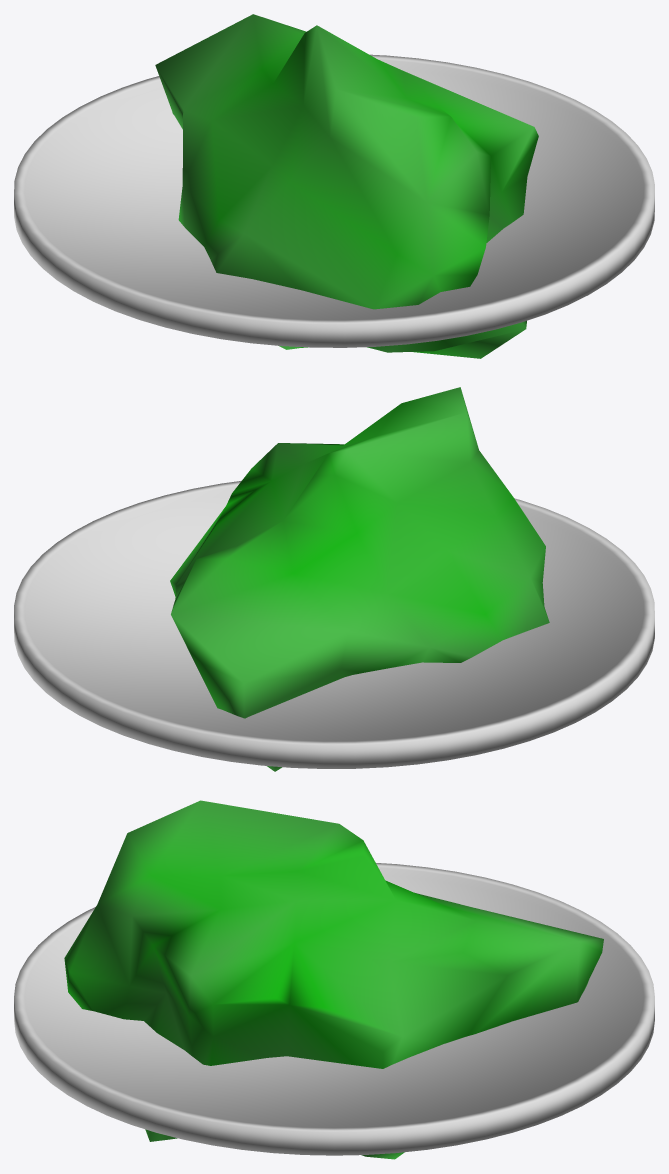
File: SimpleGemCoin.glb
3 views of the same model, one above another, from view 1: azimuth 30°, elevation 25°; view 2: azimuth 150°, elevation 25°; view 3: azimuth 270°, elevation 25° (orthographic).
Visible parts, largest first — view 1: 1; view 2: 1; view 3: 1.
Boxes of the visible parts, x1,y1,x2,y2 form: 1: (14,14,654,358); 1: (14,387,654,771); 1: (14,800,654,1159).
Bounding box in the file's own units: 0.5 × 0.2602 × 0.5.
